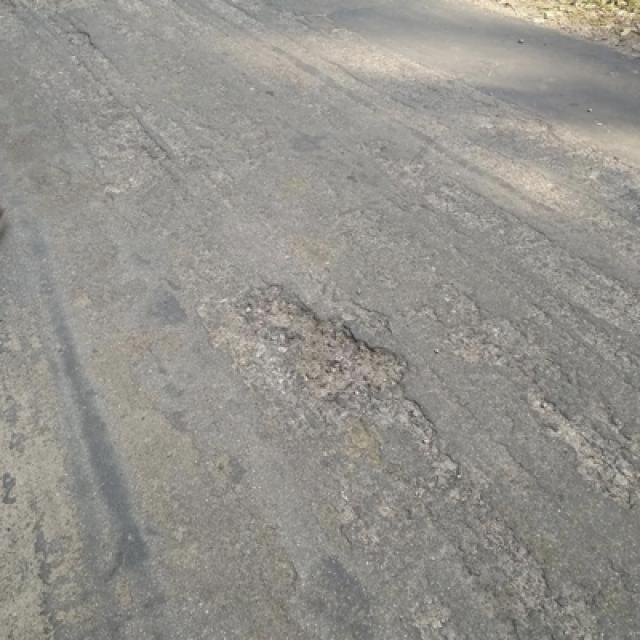Pothole: (260, 296, 414, 405)
